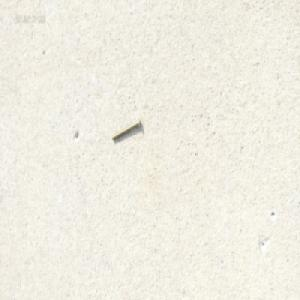Bolt: (111, 118, 141, 142)
